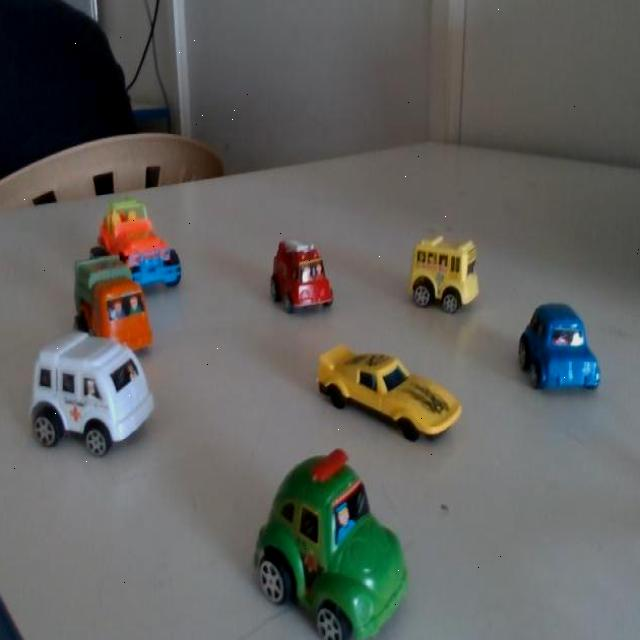car: (259, 456, 414, 640), (34, 313, 168, 478), (326, 334, 453, 451), (400, 230, 485, 328), (111, 191, 190, 292), (528, 301, 604, 402), (261, 228, 332, 329), (81, 247, 146, 357)
